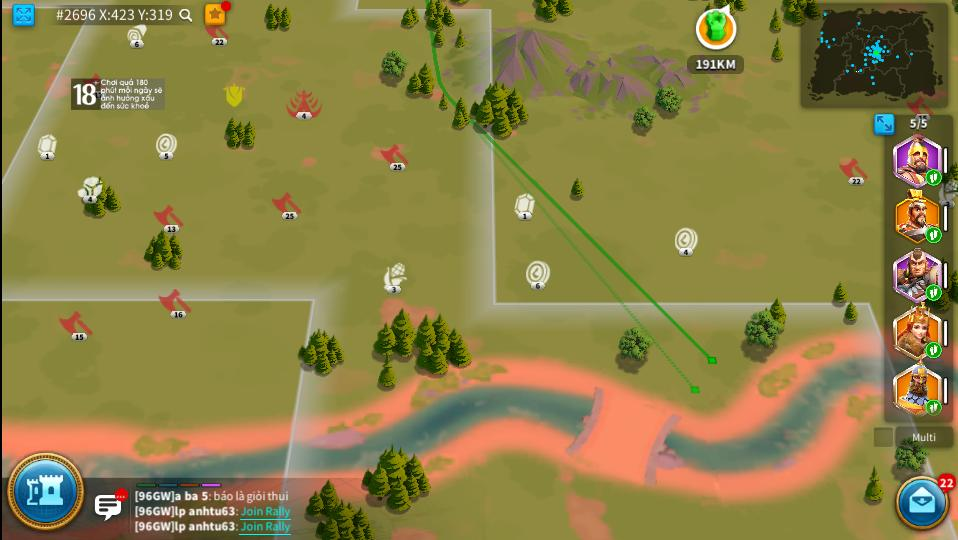gem-z-out: (514, 193, 534, 221), (37, 132, 56, 160)
march_marching: (925, 228, 942, 242), (926, 170, 940, 185), (927, 400, 941, 415), (926, 285, 940, 299), (928, 343, 940, 357)
